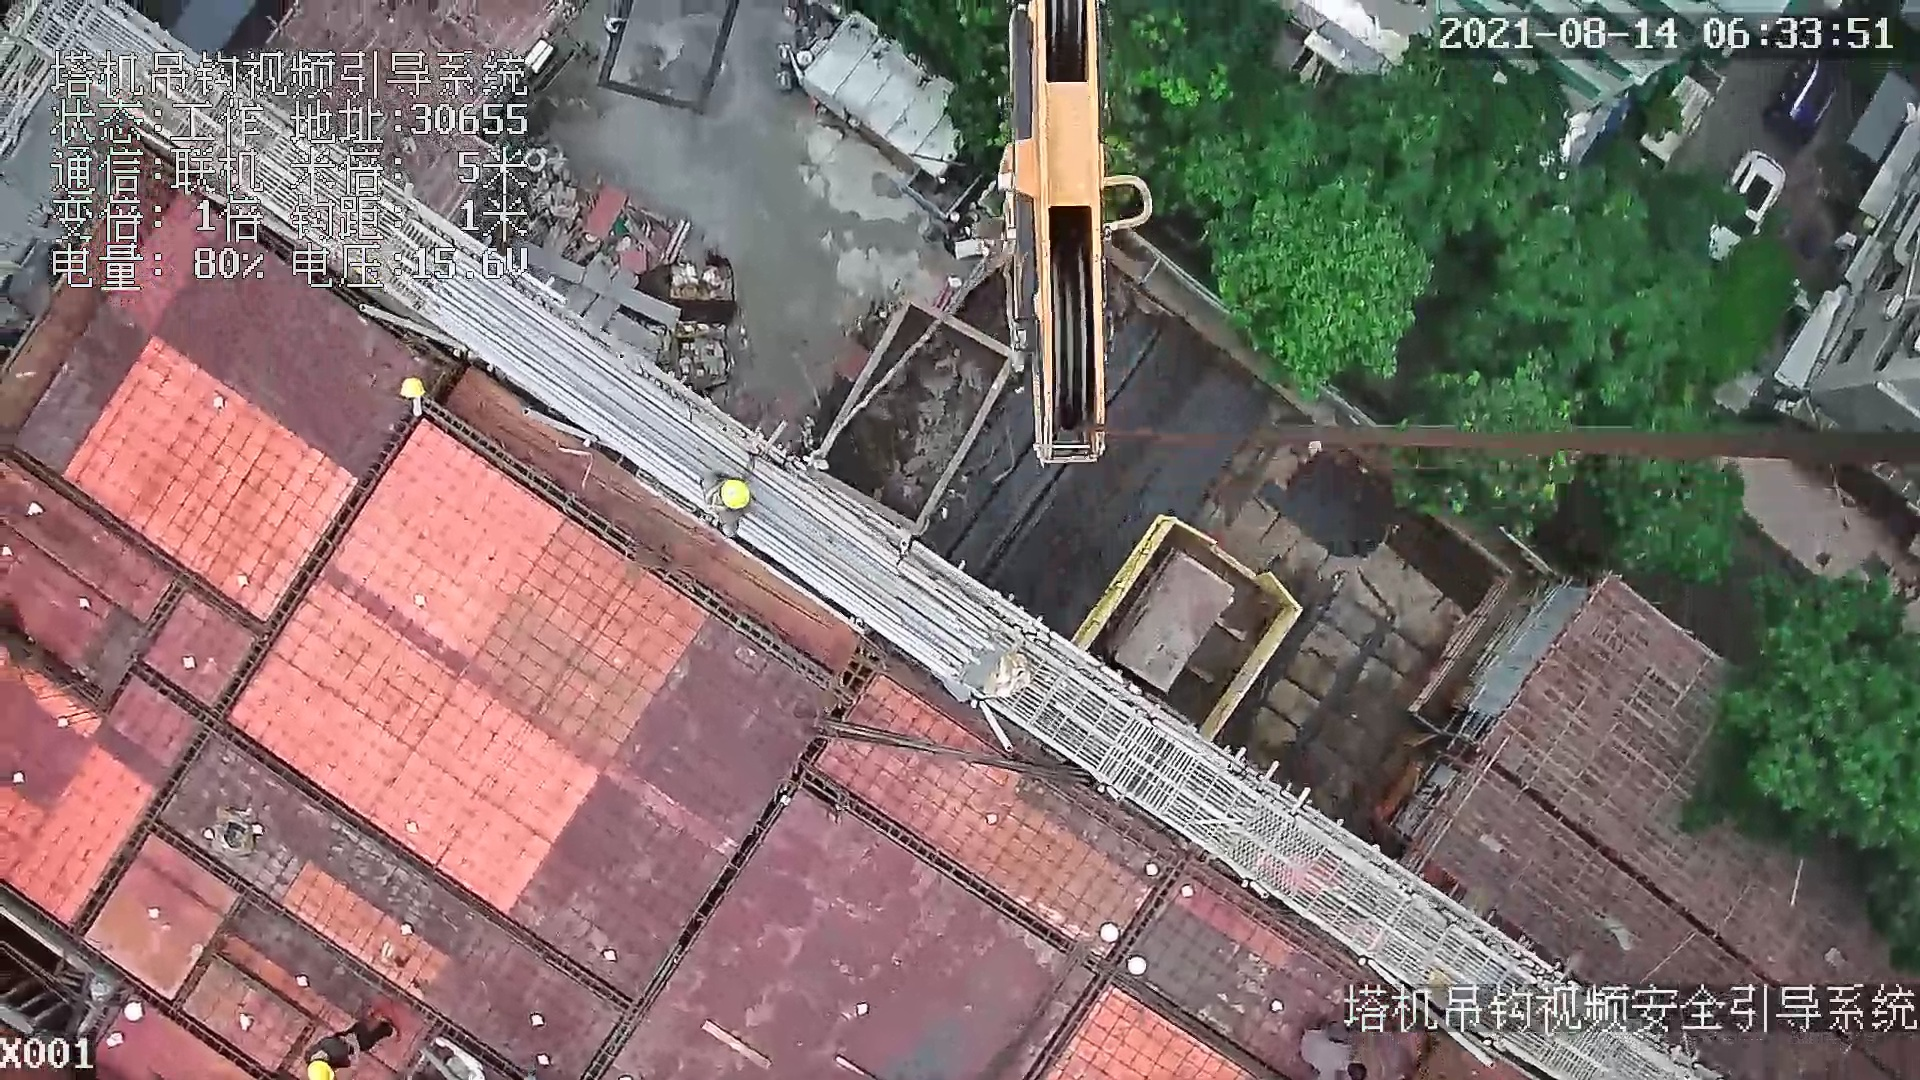helmet: (717, 474, 754, 513), (395, 374, 431, 399), (304, 1059, 345, 1080)
hook: (985, 3, 1153, 477)
hopper: (819, 287, 1005, 549)
person: (1288, 1008, 1404, 1080), (287, 1012, 404, 1080), (681, 454, 765, 541)
